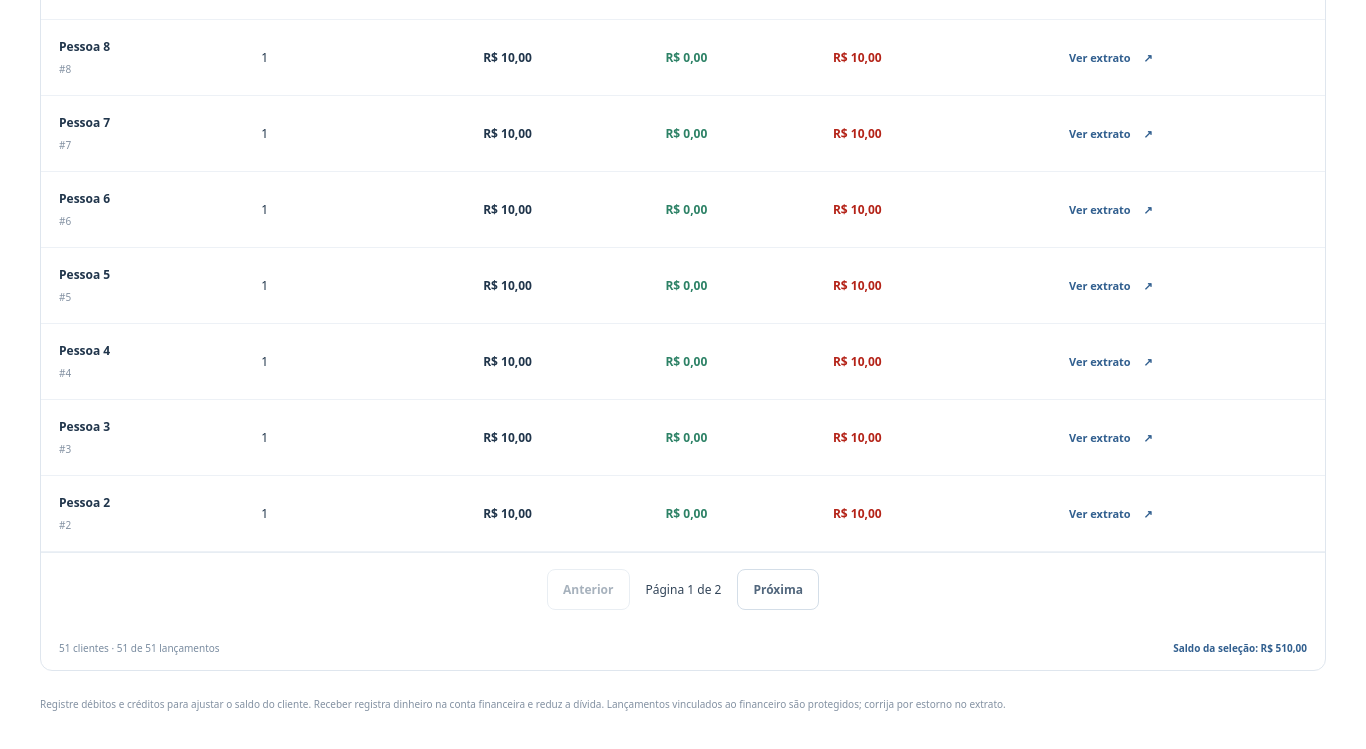
Test case: receivables screen › paginates customers from latest to earliest without changing totals
(page scrolled)
Click the button "Próxima": click(778, 590) [737, 569, 819, 610]
(page scrolled)
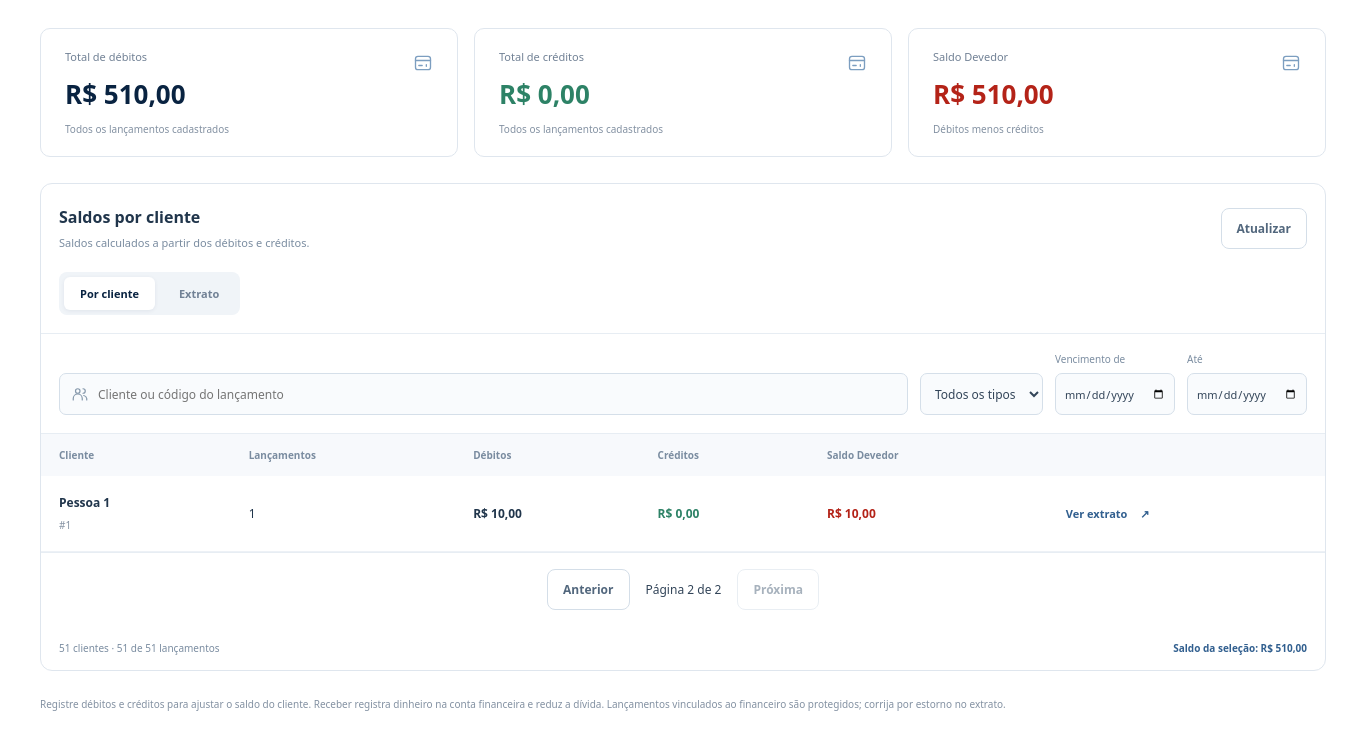
Expected: the text "Saldo da seleção: R$ 510,00" is shown, [1173, 641, 1307, 655]
Result: the button with aria-label "Ver extrato de Pessoa 1" is shown at [1061, 501, 1154, 526]
